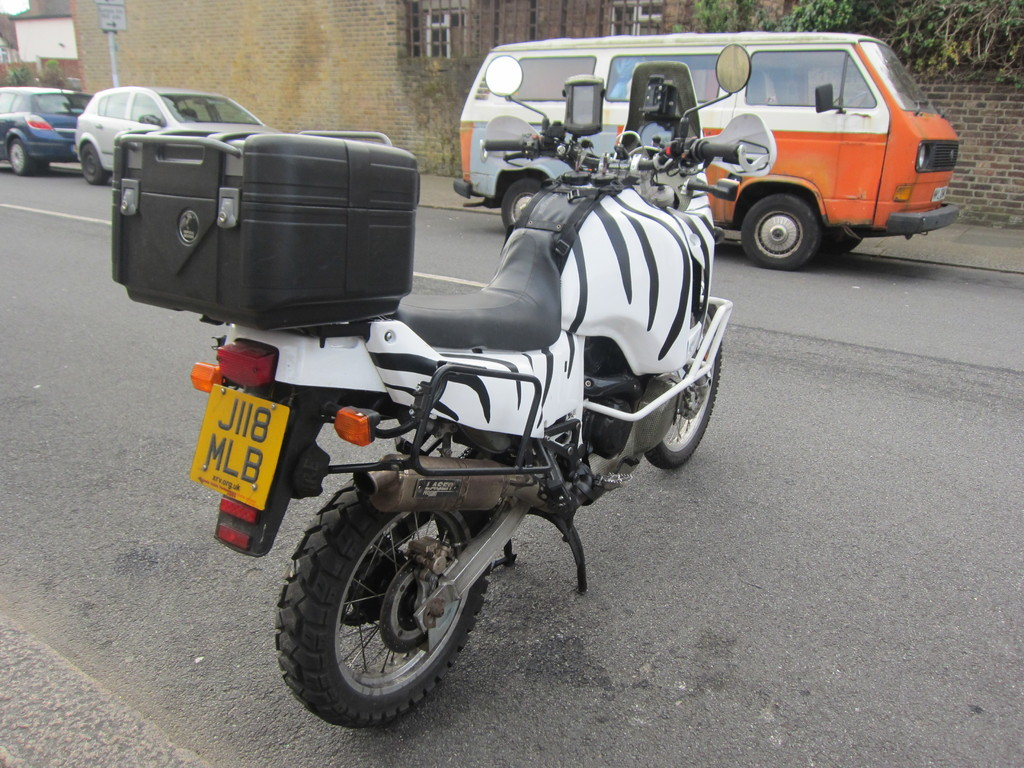Motorcycle: (181, 40, 774, 730)
